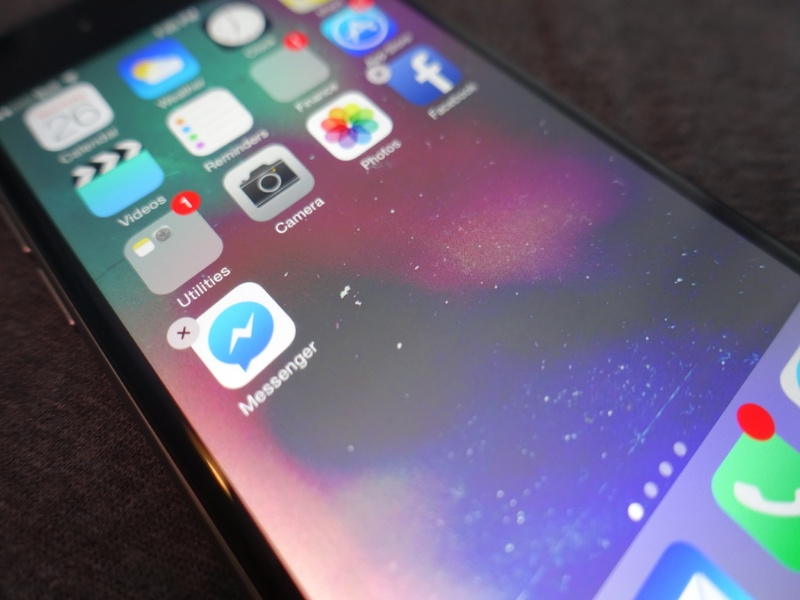cellphone: (2, 1, 800, 583)
